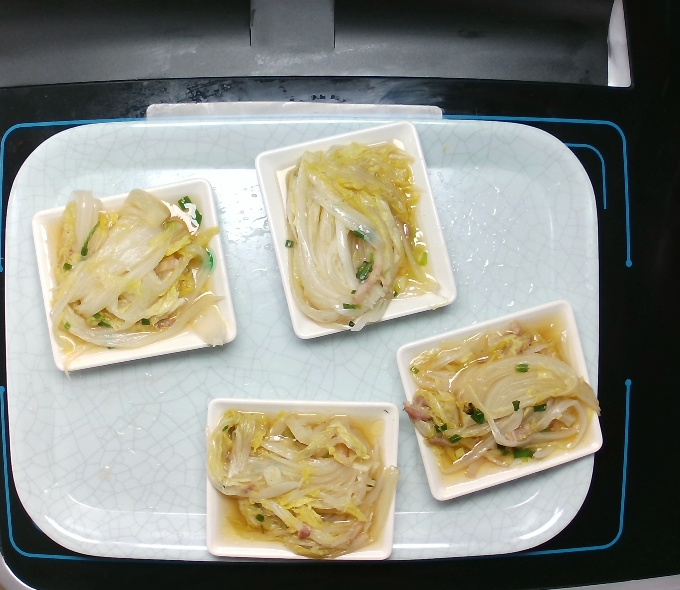wcq-DaBaiCaiRouMou: (269, 133, 451, 339), (43, 187, 232, 381), (400, 312, 607, 487), (203, 407, 405, 563)
